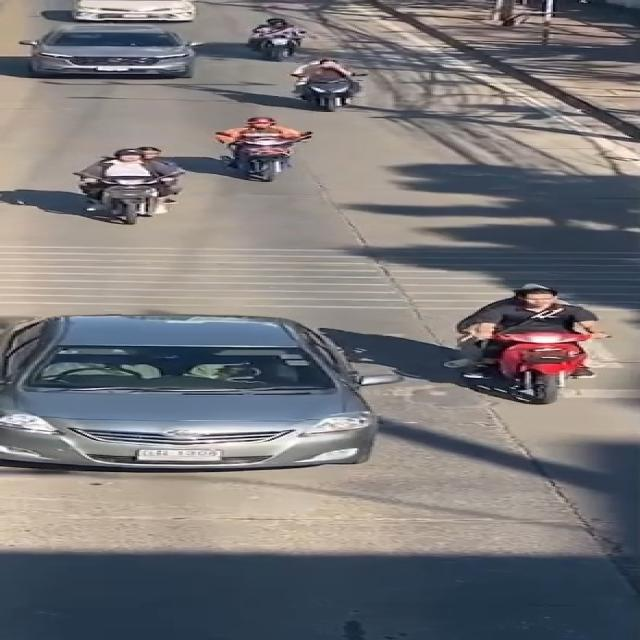car: (0, 303, 429, 489), (0, 21, 226, 81)
